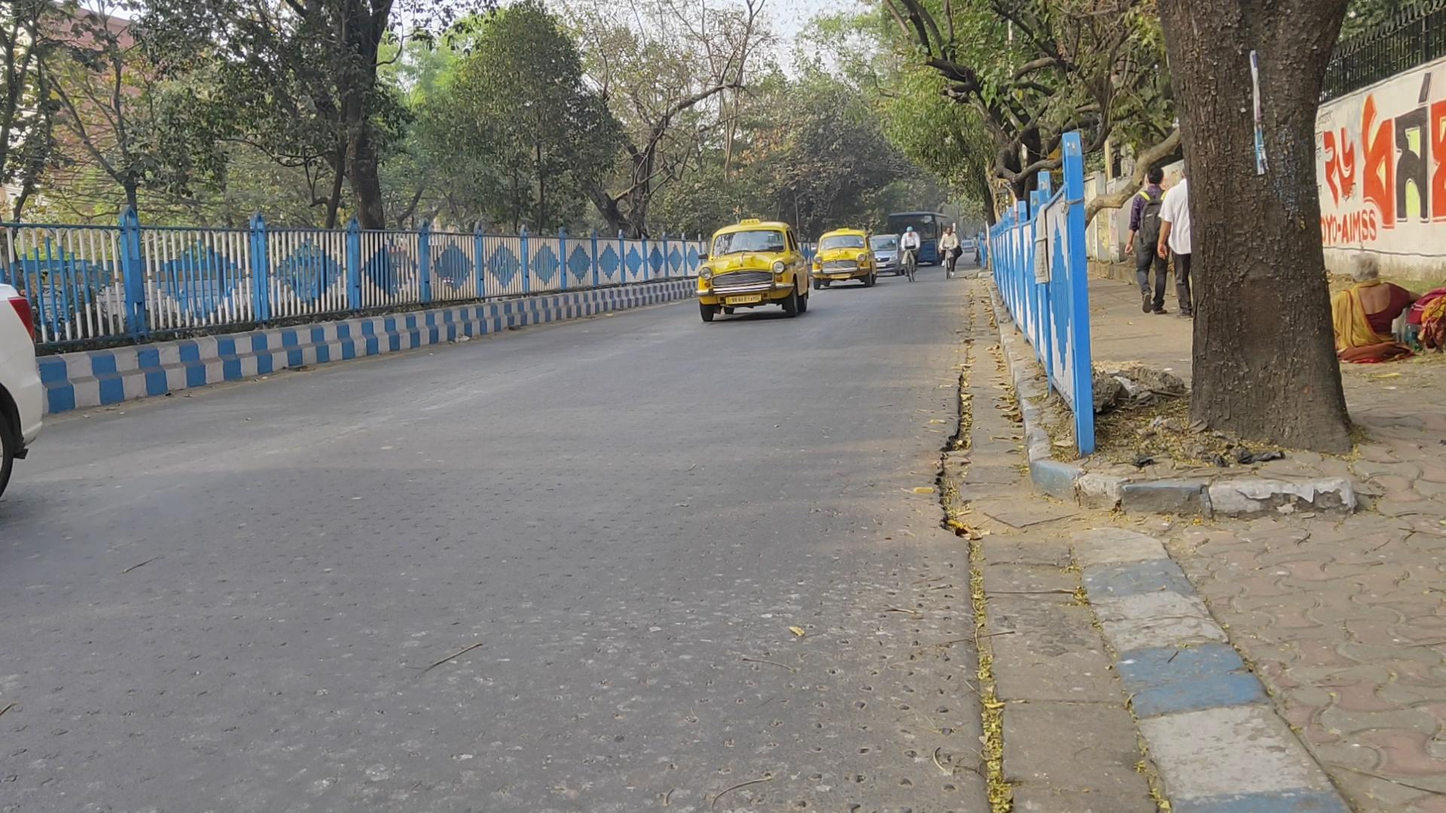Bus: (887, 212, 952, 266)
bike: (939, 227, 962, 281), (901, 226, 920, 282)
car: (697, 218, 810, 321), (813, 227, 878, 289), (868, 233, 907, 277)
